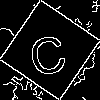C: (25, 25, 70, 77)
